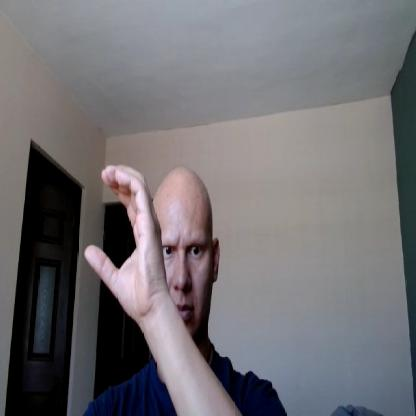C: (85, 163, 168, 318)
